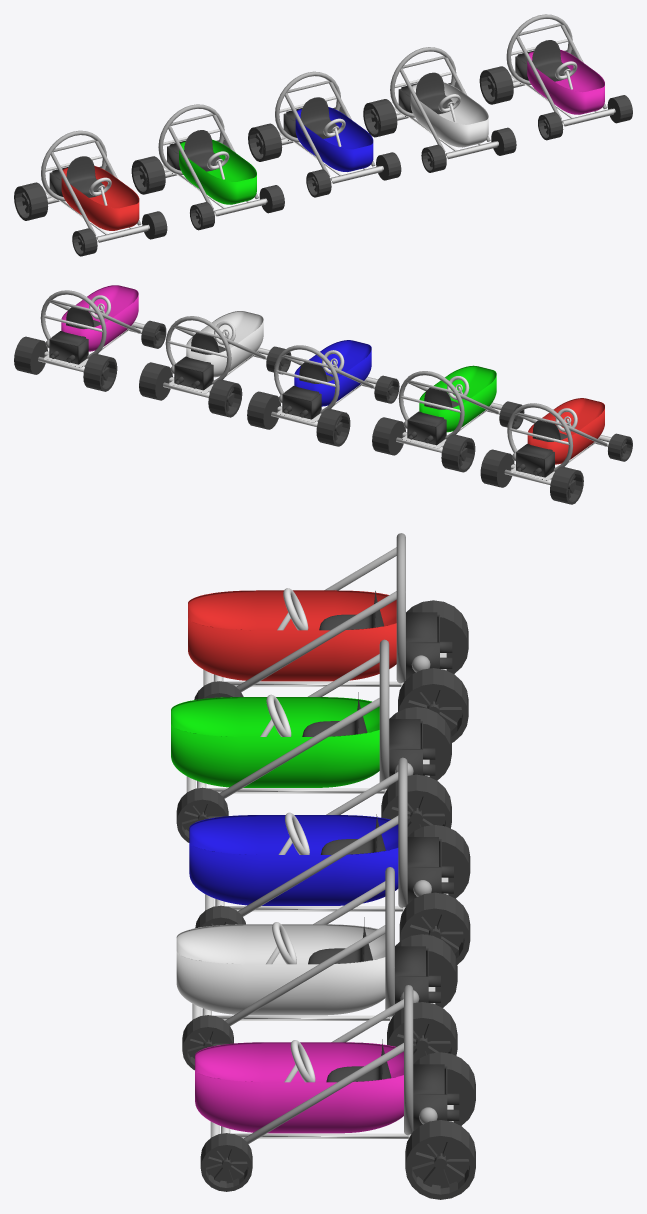
Rendered from kart model.fbx.
The picture shows the model from 3 angles, top to bottom: view 1: azimuth 30°, elevation 25°; view 2: azimuth 150°, elevation 25°; view 3: azimuth 270°, elevation 25°; orthographic projection. The views are drawn at different scales.
Parts seen in each view (by area): view 1: Bathtub Body kart 5, Bathtub Body, Bathtub Body kart 3, Bathtub Body kart 2, Bathtub Body kart 4, WHEEL RR.003, WHEEL RR.001, WHEEL RR.002, WHEEL RR.004, WHEEL RR, Seat, Seat.004 (+28 smaller); view 2: Bathtub Body, Bathtub Body kart 4, Bathtub Body kart 2, Bathtub Body kart 3, Bathtub Body kart 5, WHEEL RR.001, WHEEL RR.003, WHEEL RR, WHEEL RR.002, WHEEL RR.004, WHEEL RL.004, WHEEL RL.002 (+23 smaller); view 3: Bathtub Body kart 3, Bathtub Body kart 4, Bathtub Body kart 2, Bathtub Body, Bathtub Body kart 5, WHEEL RL.002, WHEEL RL, WHEEL RL.004, WHEEL RL.001, WHEEL RL.003, WHEEL FL.002, Engine_Block.002 (+26 smaller).
Boxes of the visible parts, left/top/right/bottom form: Bathtub Body kart 5: left=61, top=166, right=139, bottom=230; Bathtub Body: left=295, top=107, right=373, bottom=171; Bathtub Body kart 3: left=410, top=82, right=488, bottom=147; Bathtub Body kart 2: left=179, top=139, right=256, bottom=204; Bathtub Body kart 4: left=527, top=49, right=604, bottom=114; WHEEL RR.003: left=363, top=99, right=397, bottom=137; WHEEL RR.001: left=131, top=156, right=165, bottom=194; WHEEL RR.002: left=479, top=66, right=513, bottom=104; WHEEL RR.004: left=14, top=182, right=48, bottom=220; WHEEL RR: left=248, top=123, right=282, bottom=161; Seat: left=300, top=97, right=337, bottom=138; Seat.004: left=66, top=156, right=103, bottom=197; Bathtub Body: left=294, top=340, right=371, bottom=406; Bathtub Body kart 4: left=61, top=285, right=138, bottom=351; Bathtub Body kart 2: left=419, top=365, right=496, bottom=432; Bathtub Body kart 3: left=186, top=311, right=263, bottom=377; Bathtub Body kart 5: left=527, top=398, right=604, bottom=464; WHEEL RR.001: left=441, top=434, right=475, bottom=472; WHEEL RR.003: left=208, top=379, right=242, bottom=417; WHEEL RR: left=316, top=408, right=350, bottom=446; WHEEL RR.002: left=83, top=353, right=117, bottom=391; WHEEL RR.004: left=550, top=466, right=583, bottom=504; WHEEL RL.004: left=480, top=449, right=514, bottom=487; WHEEL RL.002: left=14, top=336, right=47, bottom=374; Bathtub Body kart 3: left=176, top=924, right=385, bottom=1015; Bathtub Body kart 4: left=195, top=1042, right=403, bottom=1133; Bathtub Body kart 2: left=171, top=697, right=379, bottom=787; Bathtub Body: left=189, top=815, right=398, bottom=905; Bathtub Body kart 5: left=188, top=590, right=396, bottom=681; WHEEL RL.002: left=405, top=1120, right=475, bottom=1199; WHEEL RL: left=399, top=892, right=470, bottom=964; WHEEL RL.004: left=398, top=668, right=468, bottom=742; WHEEL RL.001: left=381, top=774, right=451, bottom=836; WHEEL RL.003: left=387, top=1002, right=457, bottom=1063; WHEEL FL.002: left=200, top=1133, right=252, bottom=1191; Engine_Block.002: left=413, top=1064, right=447, bottom=1131.
Size of the model in its own units: 1349 by 198 by 323.
